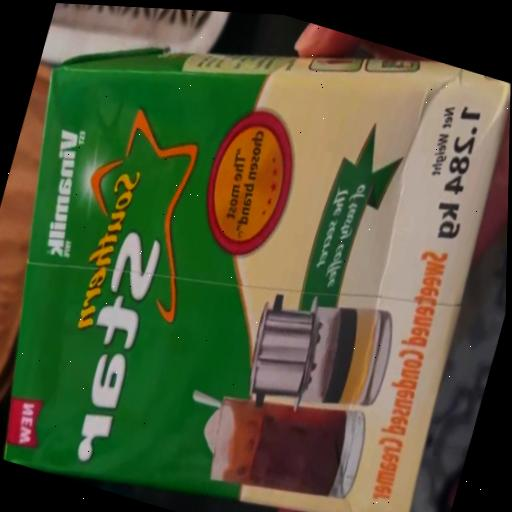ly_giay: (6, 47, 511, 512)
